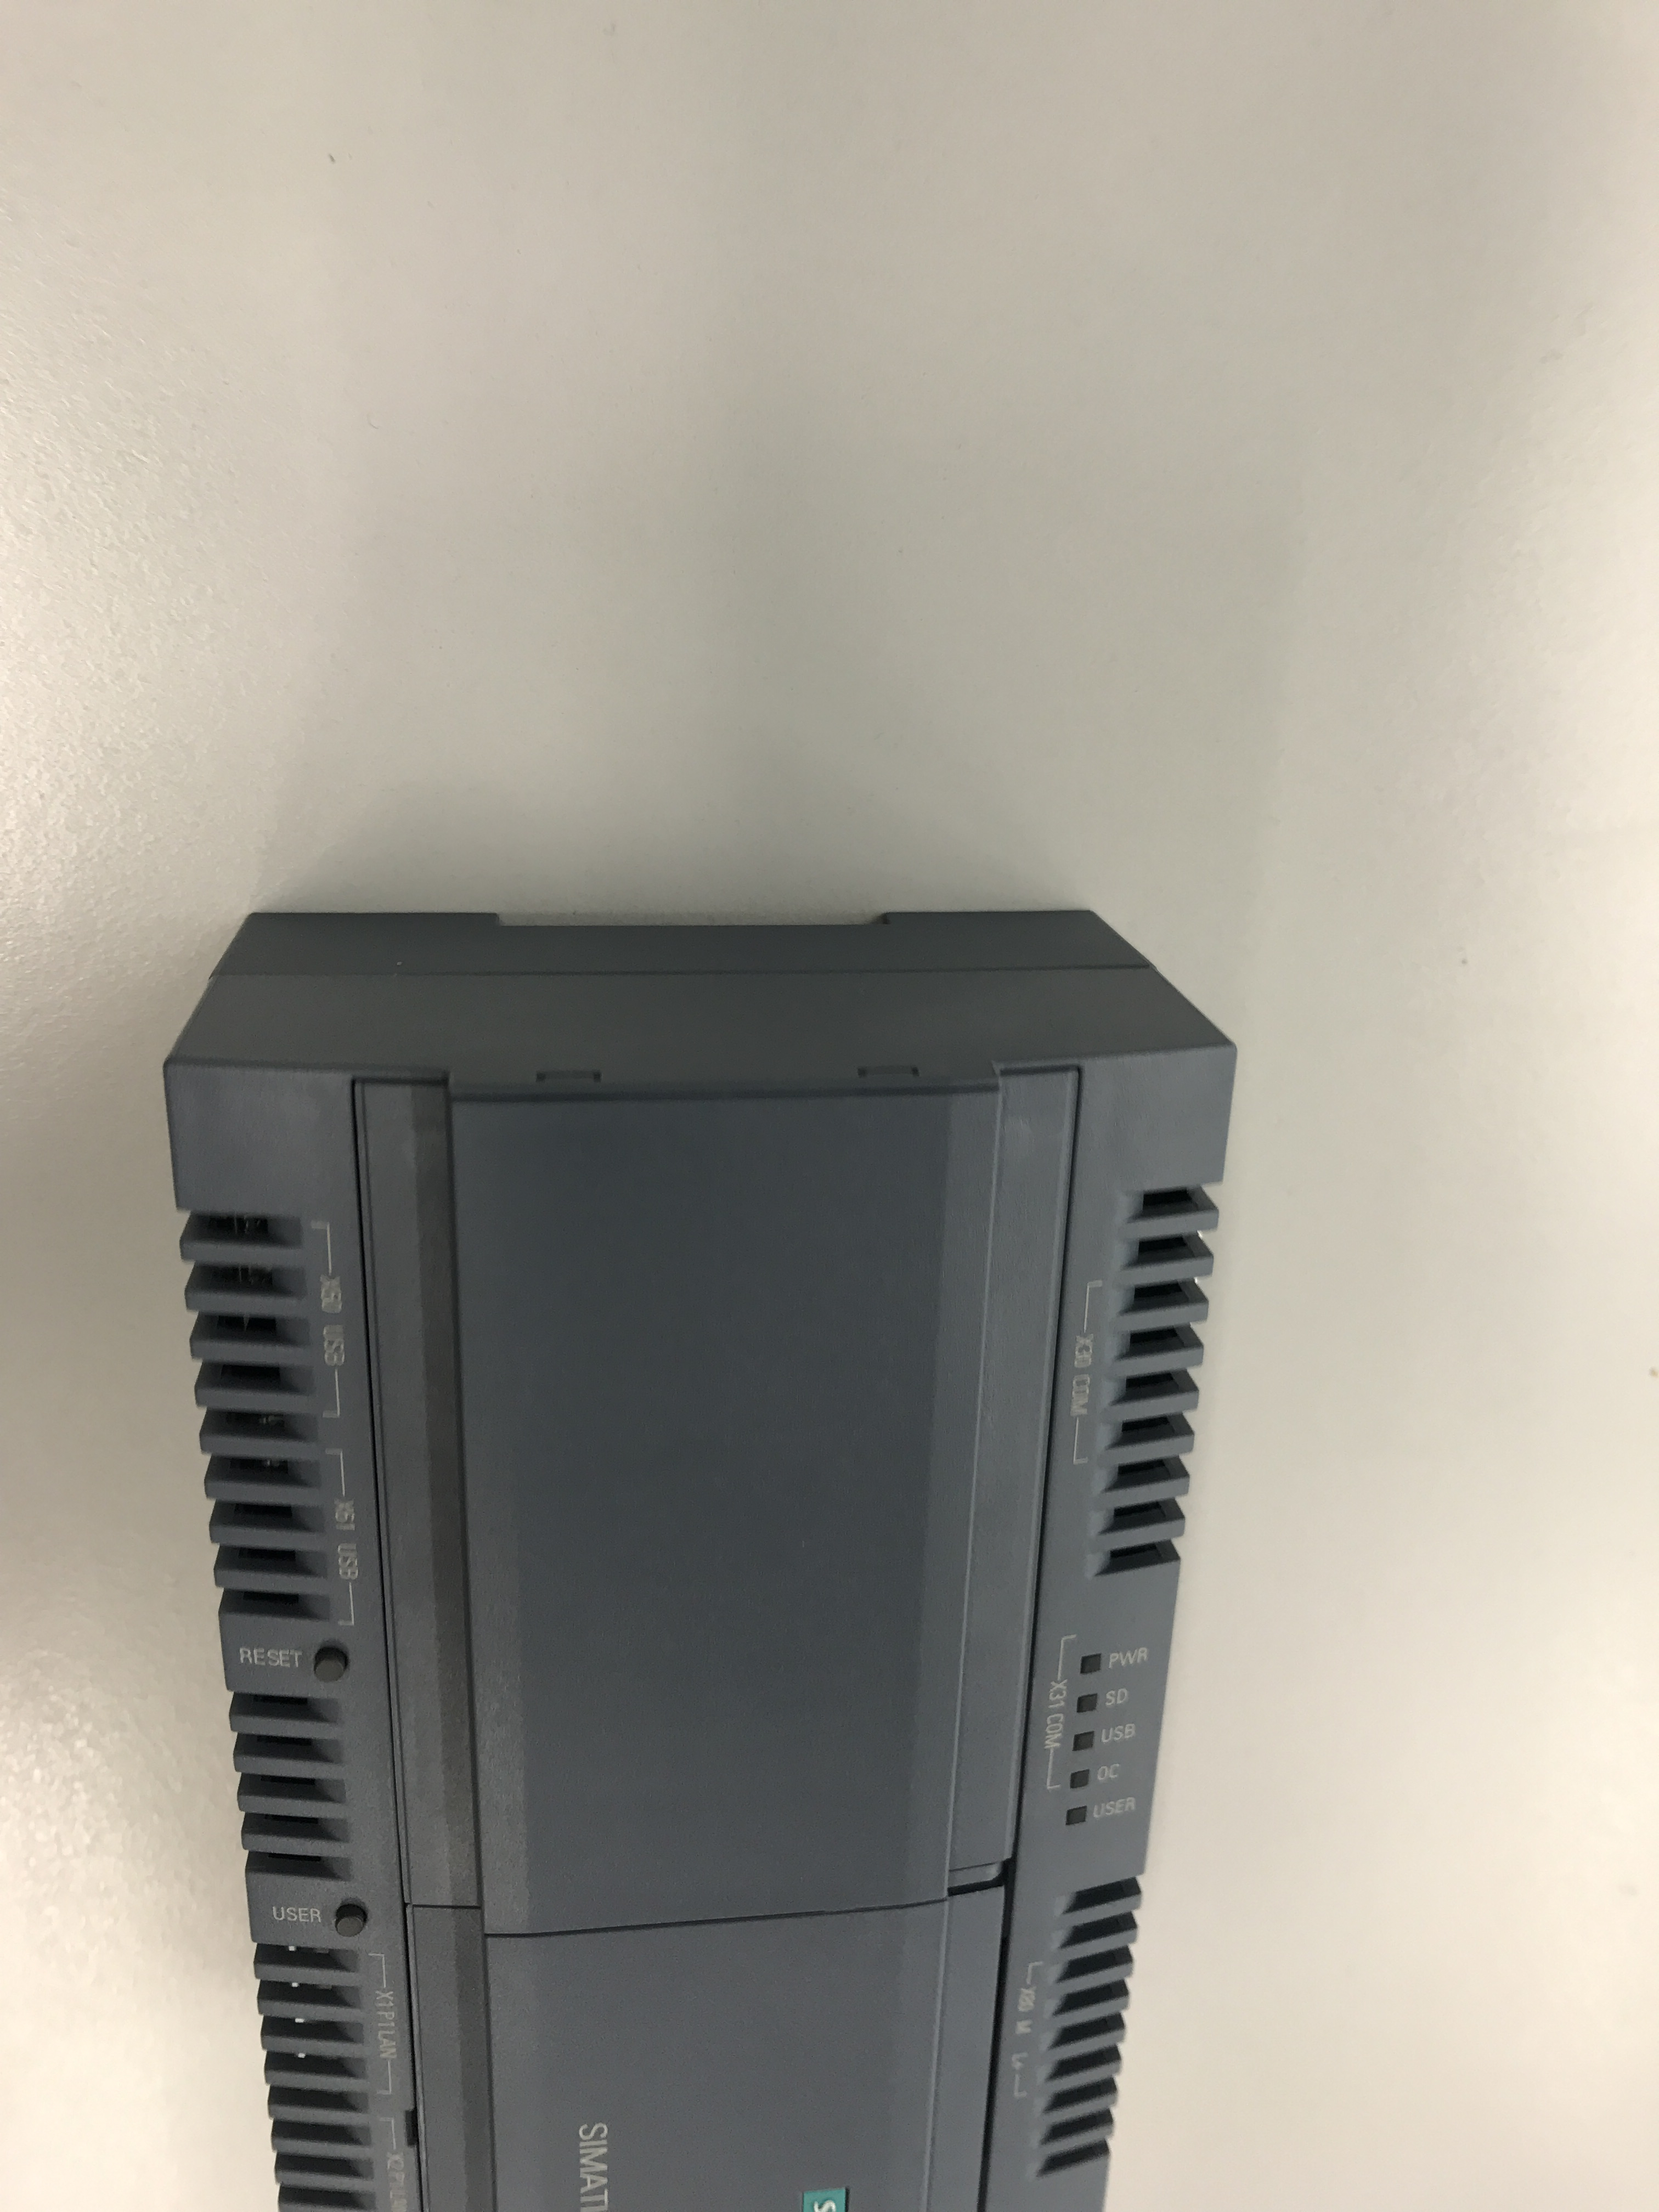device: (159, 904, 1244, 2212)
